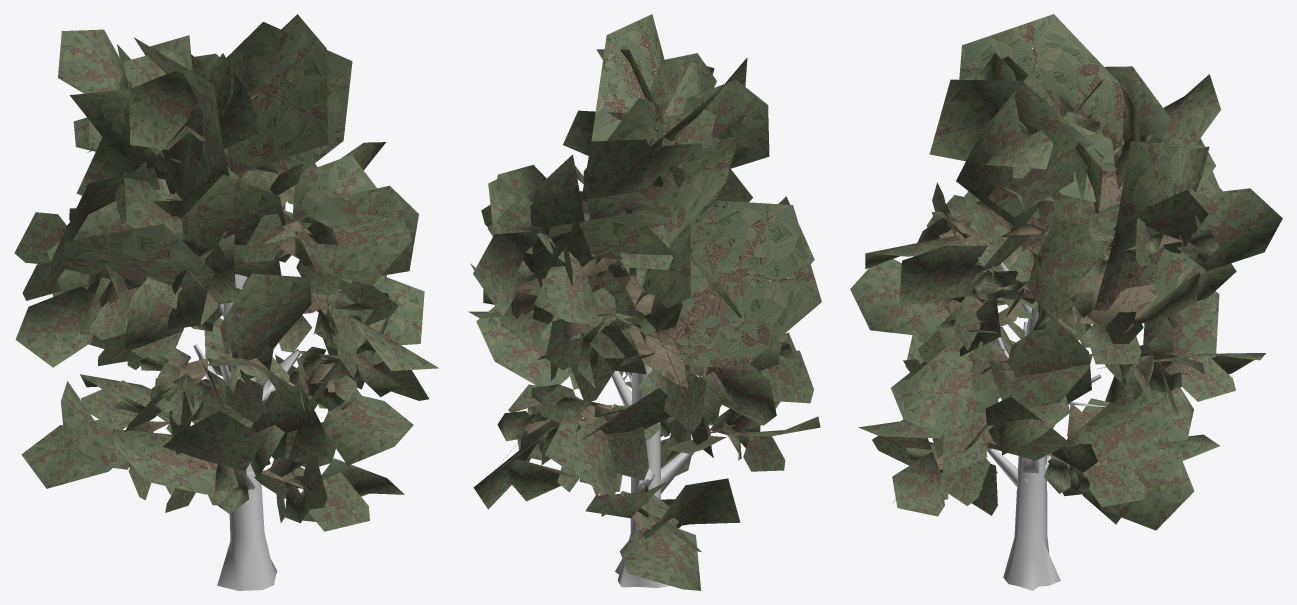
The model's file is oak_tree_a_lod1.fbx.
3 renders of one model, left to right at view 1: azimuth 30°, elevation 25°; view 2: azimuth 150°, elevation 25°; view 3: azimuth 270°, elevation 25°, orthographic. The views are drawn at different scales.
Parts seen in each view (by area): view 1: LOD1; view 2: LOD1; view 3: LOD1.
Boxes of the visible parts, x1=… form: LOD1: x1=14, y1=14, x2=438, y2=590; LOD1: x1=468, y1=14, x2=821, y2=590; LOD1: x1=850, y1=14, x2=1282, y2=590.
Size of the model in its own units: 608 by 861 by 652.
